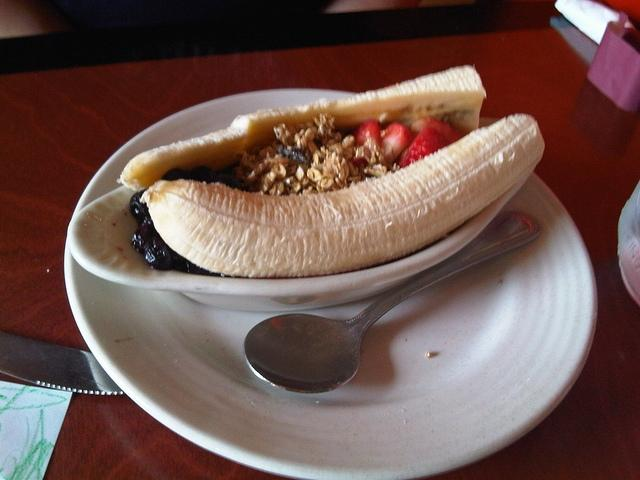banana: (140, 114, 546, 278), (119, 64, 486, 191)
blueberry: (144, 233, 178, 271), (130, 189, 150, 220), (171, 255, 198, 274), (190, 166, 216, 184), (132, 228, 149, 255), (138, 216, 158, 236), (161, 168, 188, 181), (226, 176, 238, 188), (214, 170, 227, 176)
strawberry: (399, 116, 464, 168), (379, 123, 415, 172), (351, 119, 384, 148), (348, 147, 371, 172)
